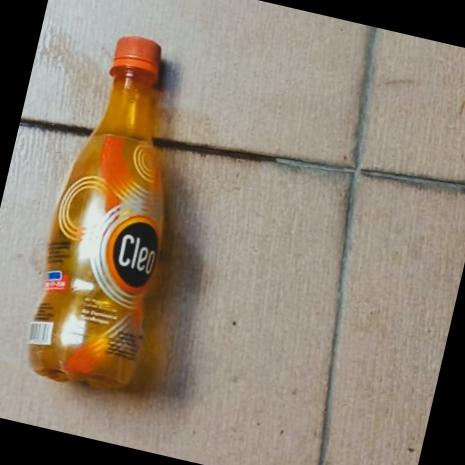Plastik: (15, 24, 210, 398)
